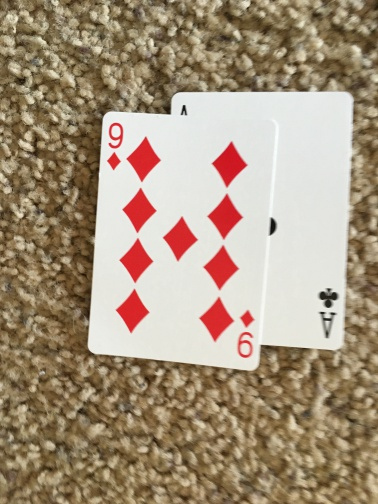ace: (261, 91, 356, 349)
nine: (90, 109, 276, 374)
